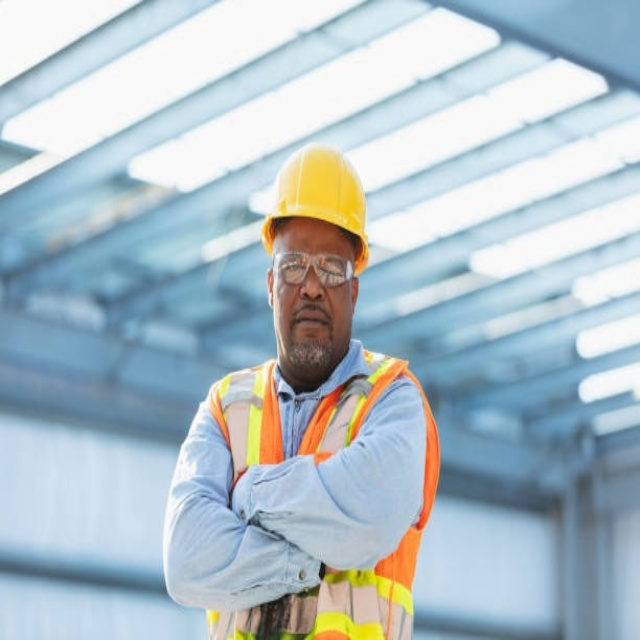Gafas: (271, 251, 356, 287)
Sin_mascara: (289, 303, 333, 356)
